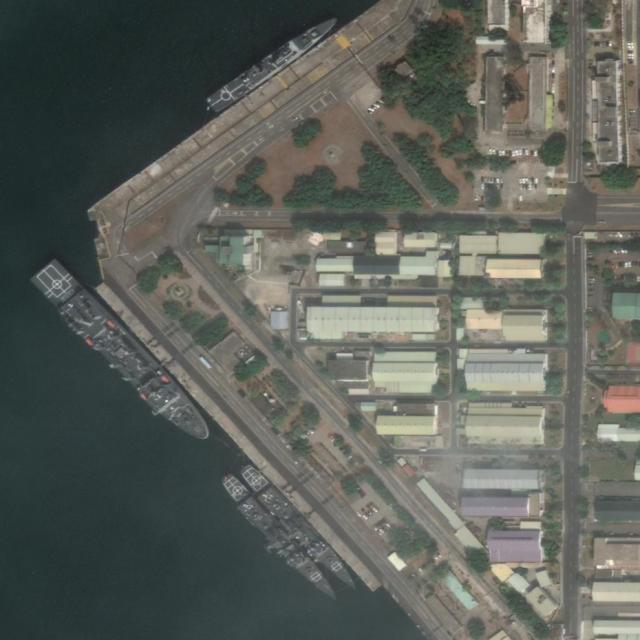Commander: (19, 250, 225, 456)
Frigate: (237, 463, 363, 594), (220, 473, 341, 606)
Other Warship: (204, 10, 343, 115)
